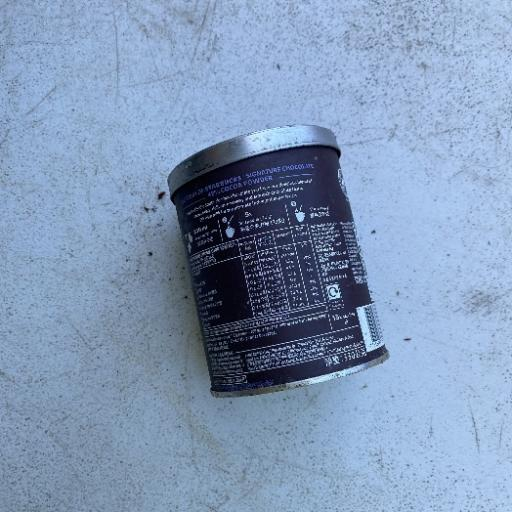Metal: (165, 122, 391, 400)
